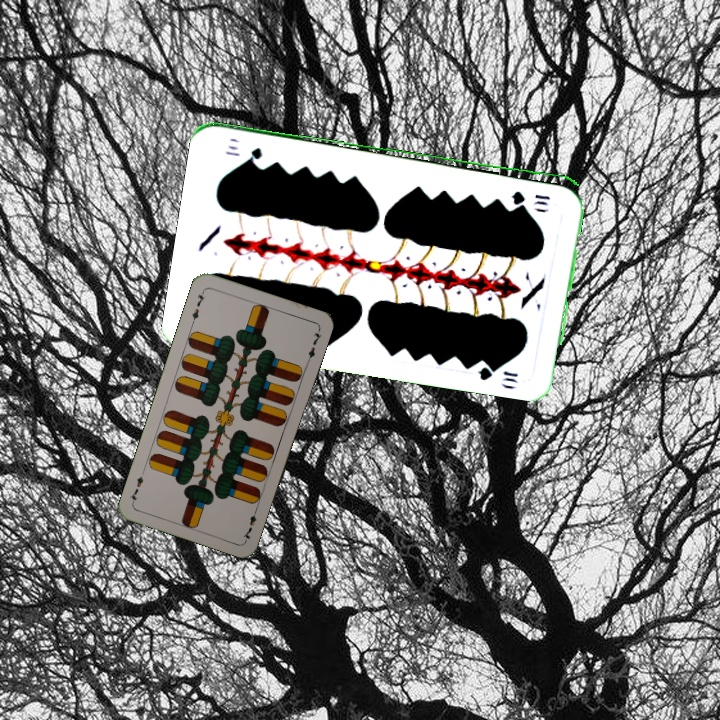E7: (239, 503, 261, 543), (187, 287, 207, 326)
G10: (507, 187, 553, 204)
